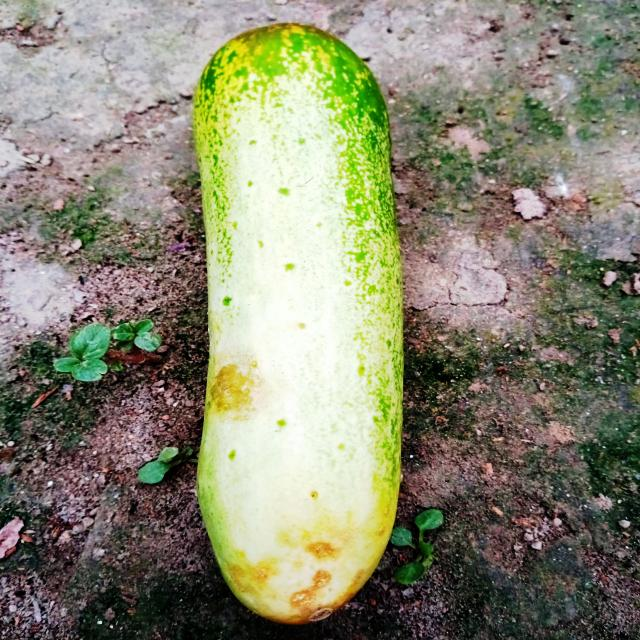Belly-Rot: (250, 527, 369, 623), (206, 358, 264, 423)
